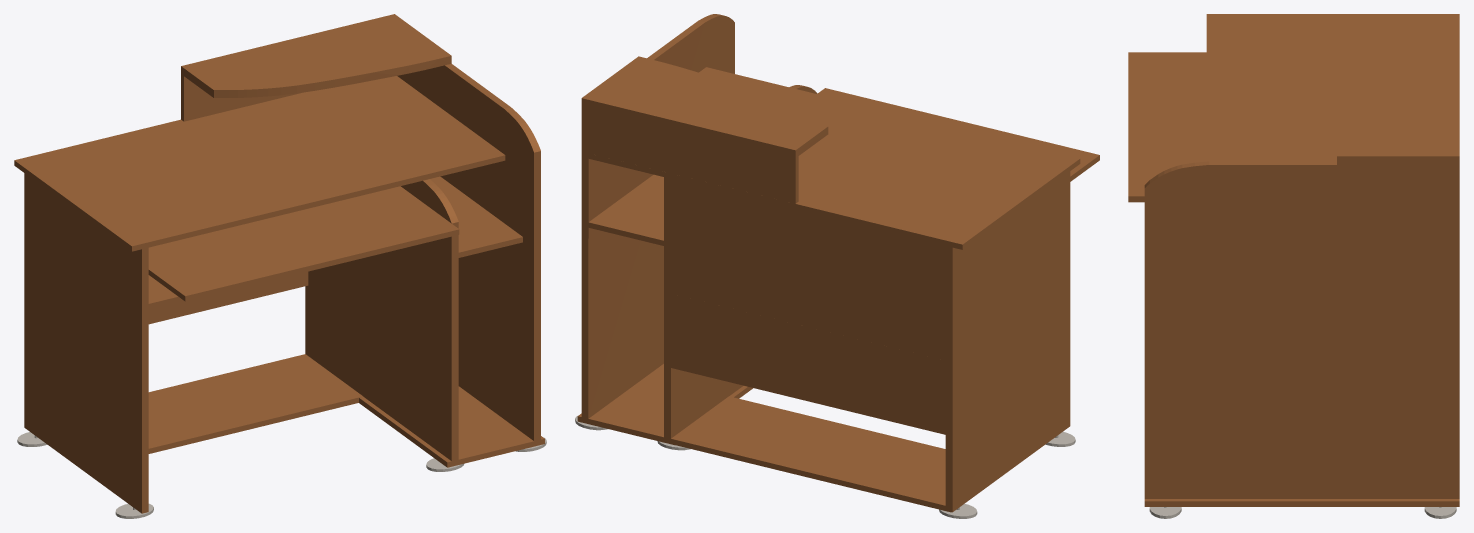
Rendered from desk-by-cmht-oculus-b9OtOtxj8Gk.glb.
The picture shows the model from 3 angles, left to right: view 1: azimuth 30°, elevation 25°; view 2: azimuth 150°, elevation 25°; view 3: azimuth 270°, elevation 25°; orthographic projection. The views are drawn at different scales.
Visible parts, largest first — view 1: Node; view 2: Node; view 3: Node.
Boxes of the visible parts, x1,y1,x2,y2 form: Node: (14, 14, 546, 518); Node: (575, 14, 1099, 518); Node: (1128, 14, 1459, 518).
Size of the model in its own units: 45.47 by 36 by 30.44.
